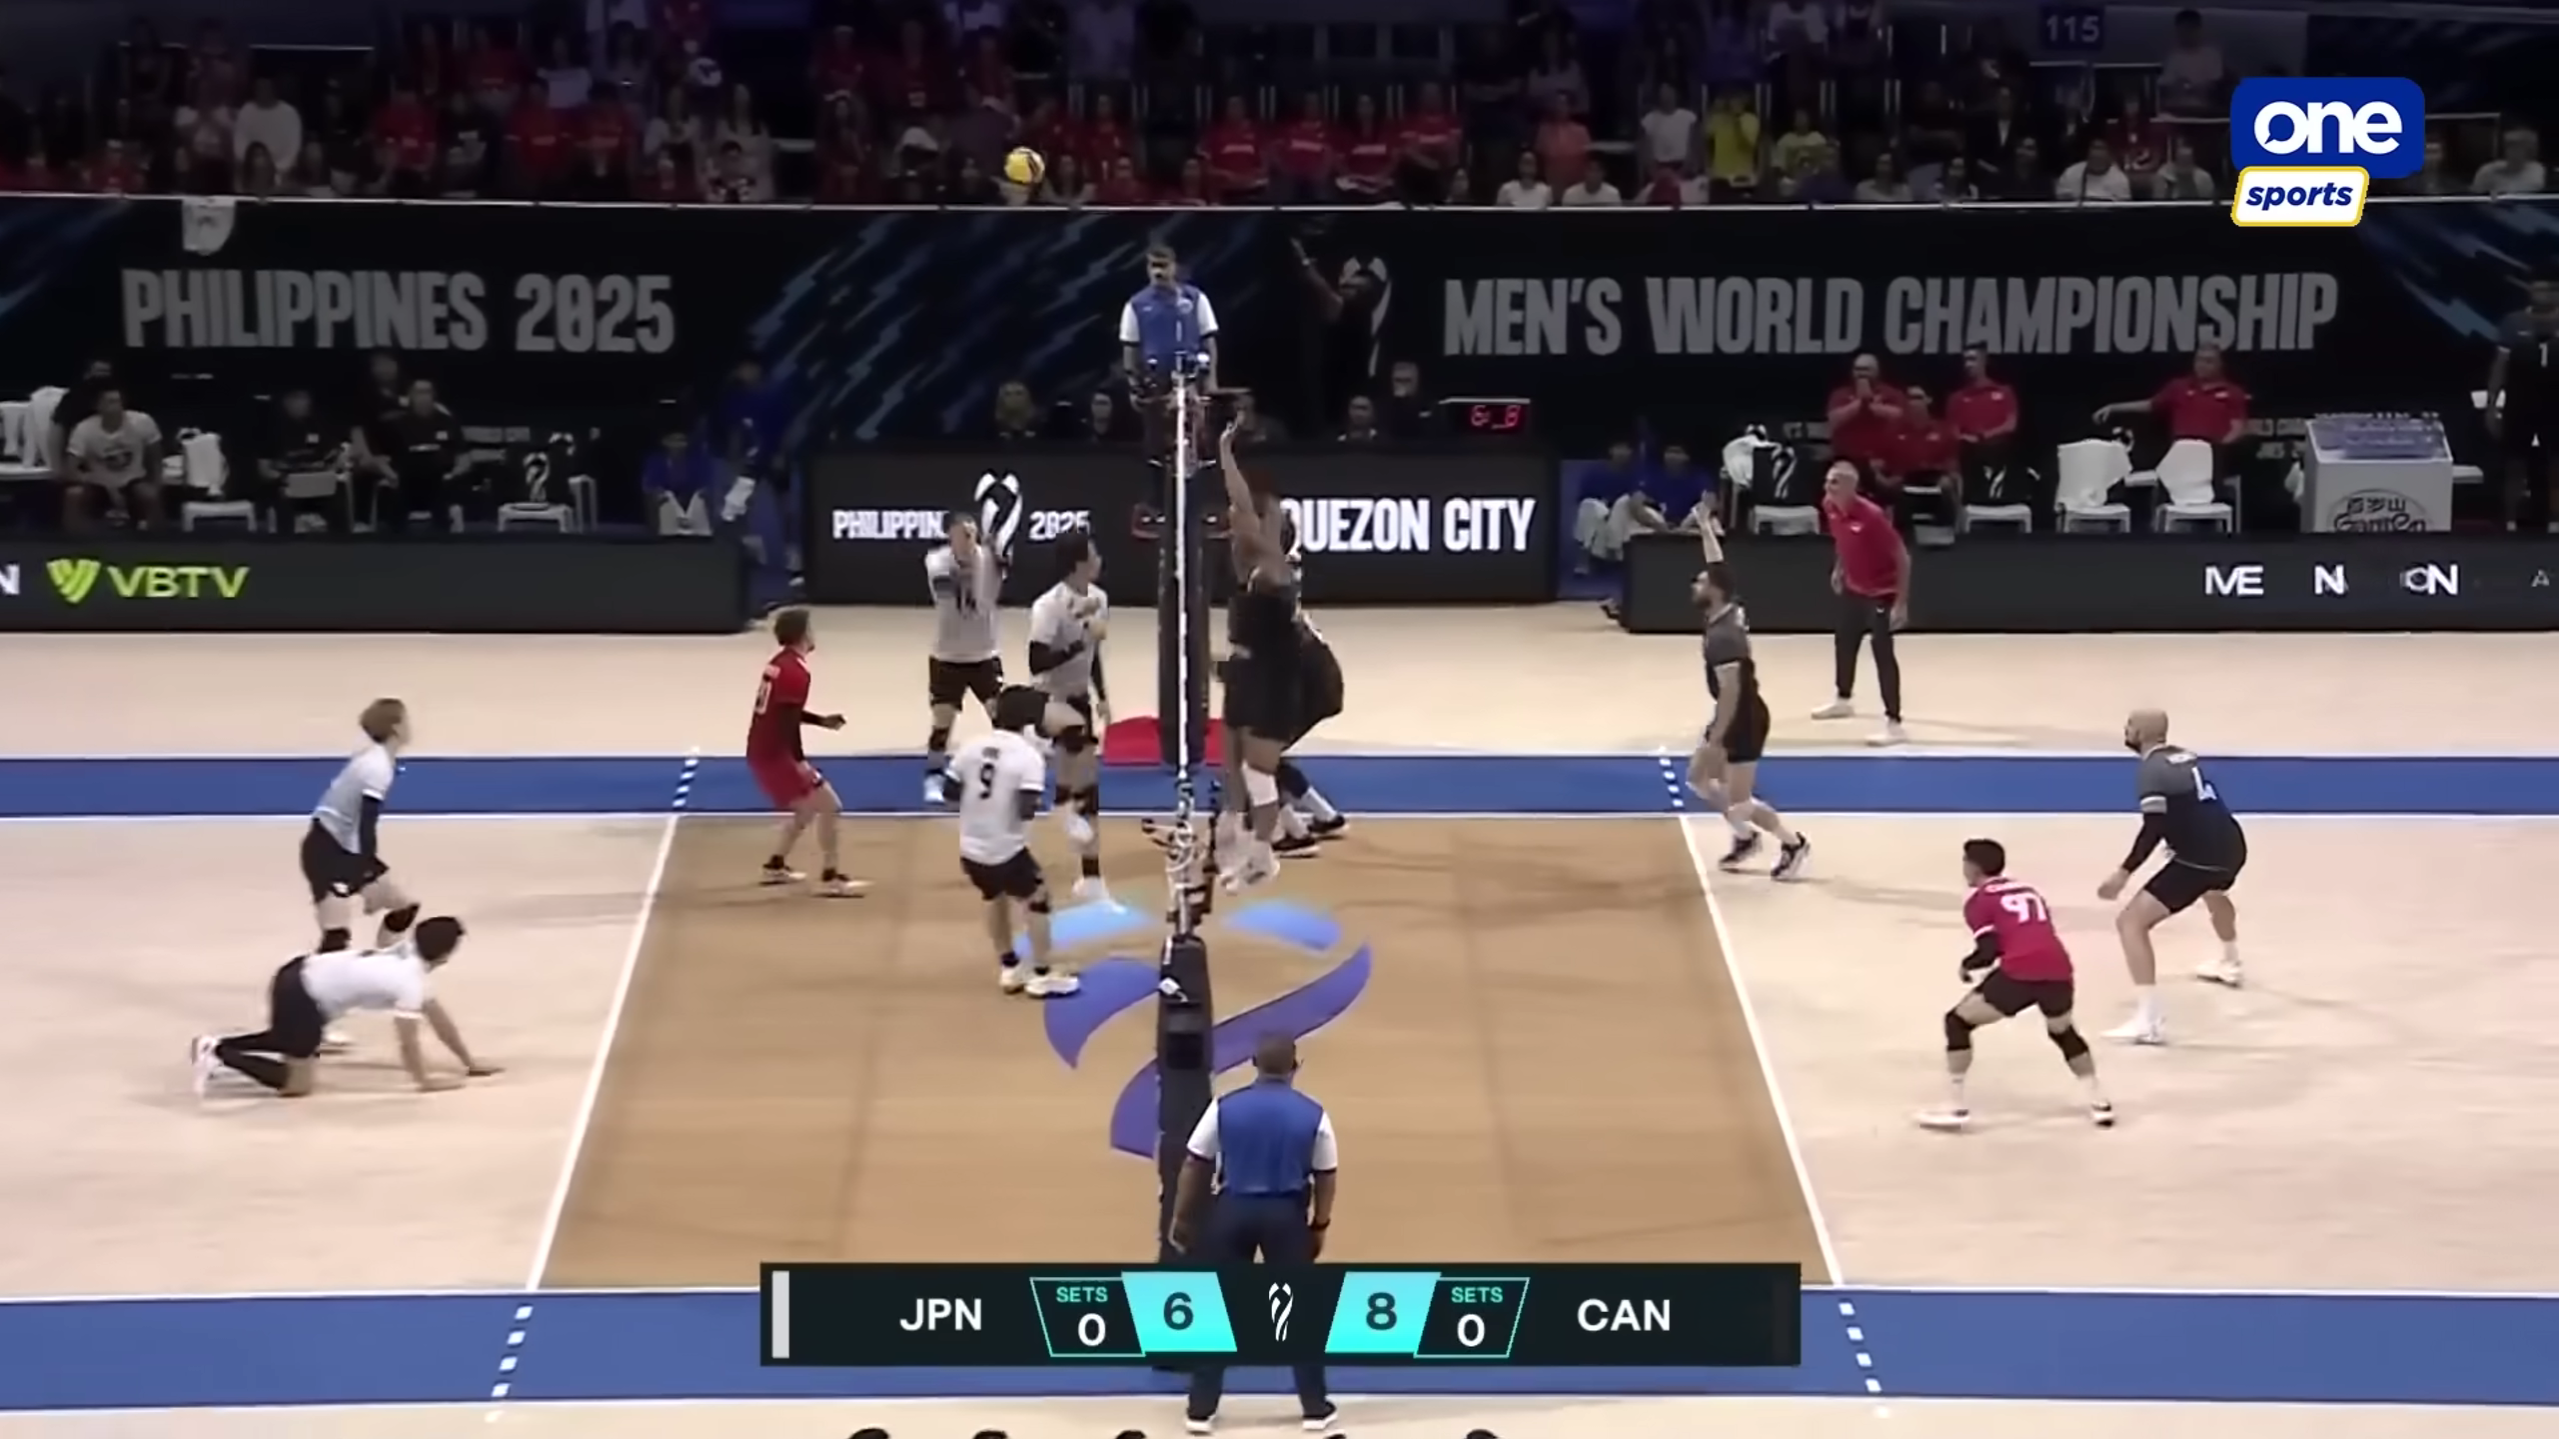Ball: (1000, 144, 1049, 190)
